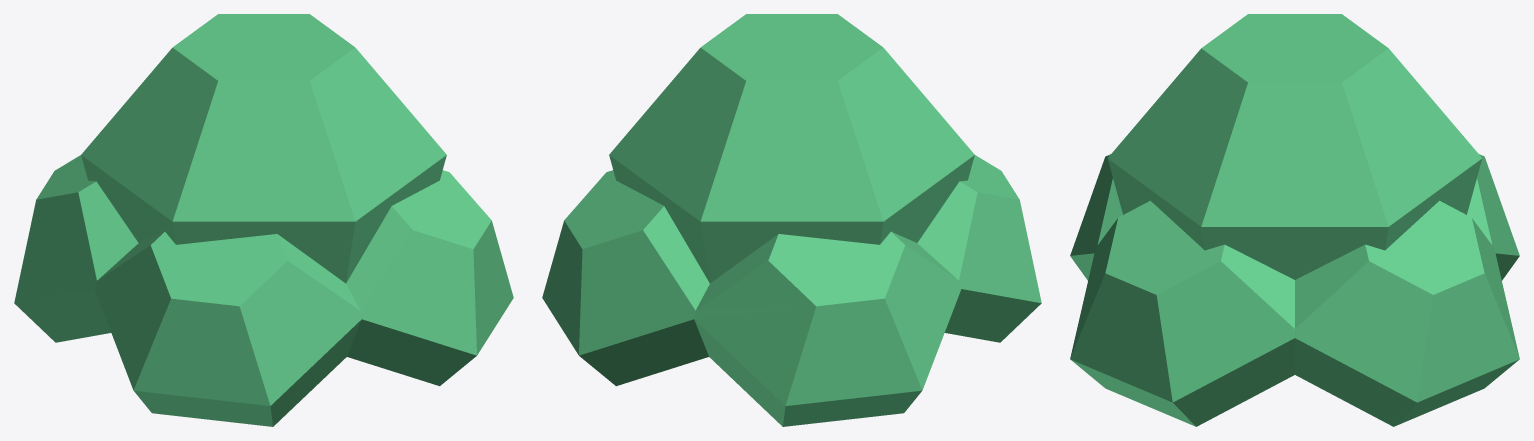
File: broccoli.glb
3 views of the same model, side by side, from view 1: azimuth 30°, elevation 25°; view 2: azimuth 150°, elevation 25°; view 3: azimuth 270°, elevation 25° (orthographic). The views are drawn at different scales.
Parts seen in each view (by area): view 1: broccoli; view 2: broccoli; view 3: broccoli.
Part boxes in pixels (x1=…): broccoli: x1=14, y1=14, x2=513, y2=426; broccoli: x1=542, y1=14, x2=1041, y2=426; broccoli: x1=1070, y1=14, x2=1519, y2=426.
Bounding box in the file's own units: 0.3752 × 0.2748 × 0.3752.
Materials: 1 (1 with a texture image).
